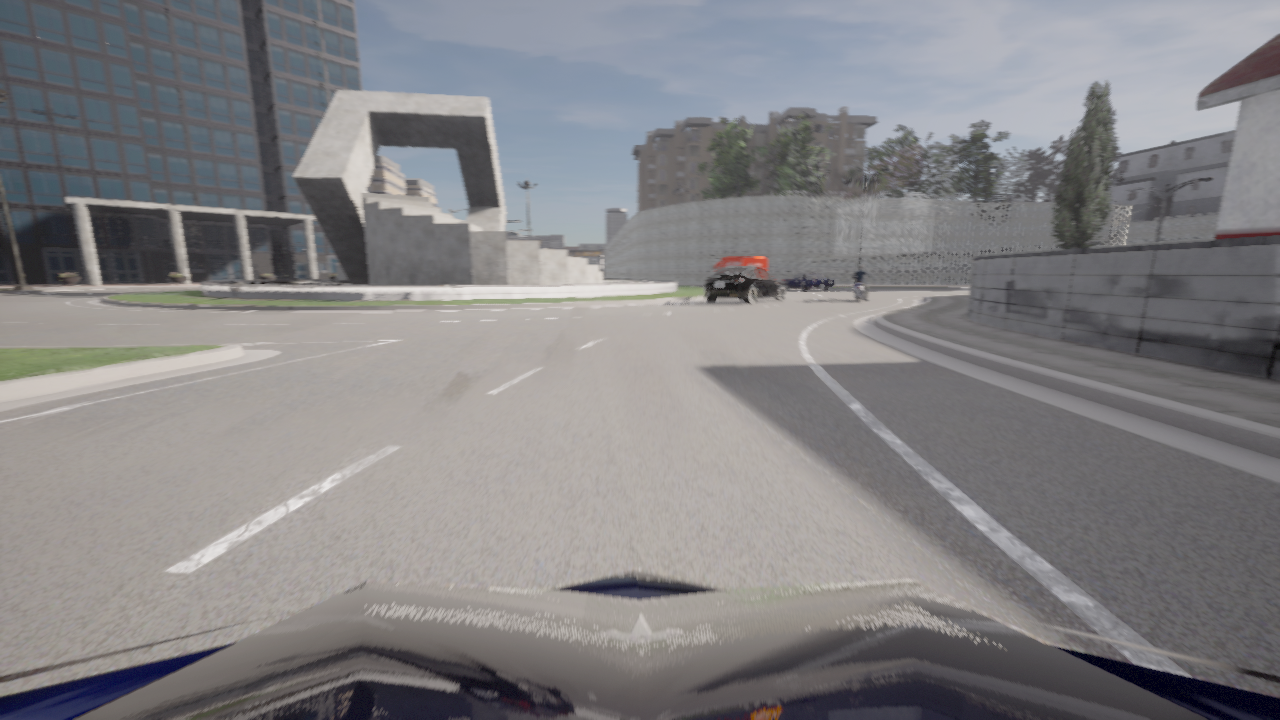cyclist: (0, 569, 1279, 719), (703, 267, 784, 303), (783, 272, 834, 290), (711, 257, 766, 271), (851, 272, 871, 300), (705, 276, 707, 278)
